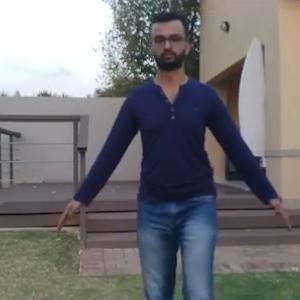land: (73, 41, 291, 298)
